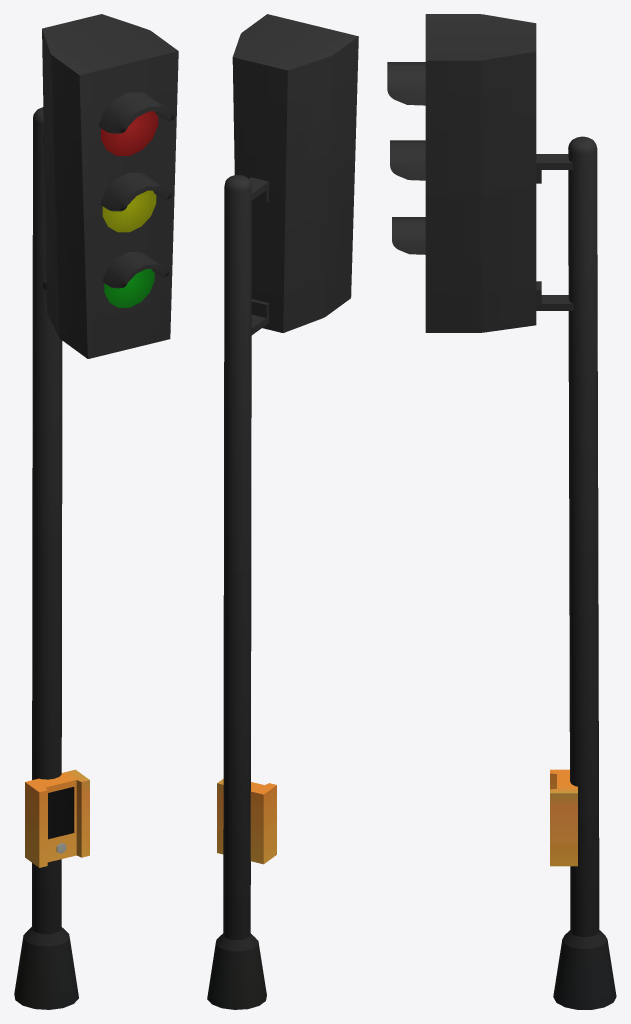
The model's file is traffic-light.glb.
3 renders of one model, left to right at view 1: azimuth 30°, elevation 25°; view 2: azimuth 150°, elevation 25°; view 3: azimuth 270°, elevation 25°, orthographic. The views are drawn at different scales.
Visible parts, largest first — view 1: traffic_light; view 2: traffic_light; view 3: traffic_light.
Part boxes in pixels (x1,y1,x2,y2): traffic_light: (14, 14, 178, 1009); traffic_light: (207, 14, 358, 1009); traffic_light: (387, 14, 616, 1009).
Size of the model in its own units: 0.494 by 4.73 by 1.02.
1 material, 1 textured.
